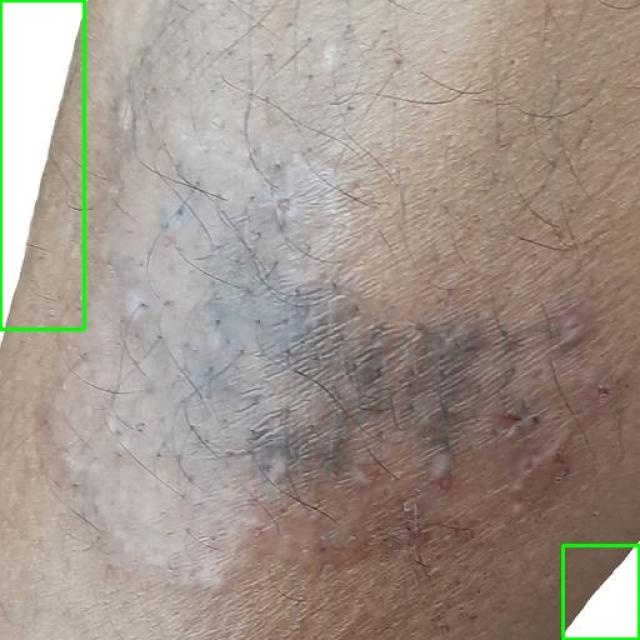Tinea Corporis: (0, 0, 84, 329), (562, 545, 639, 639)
